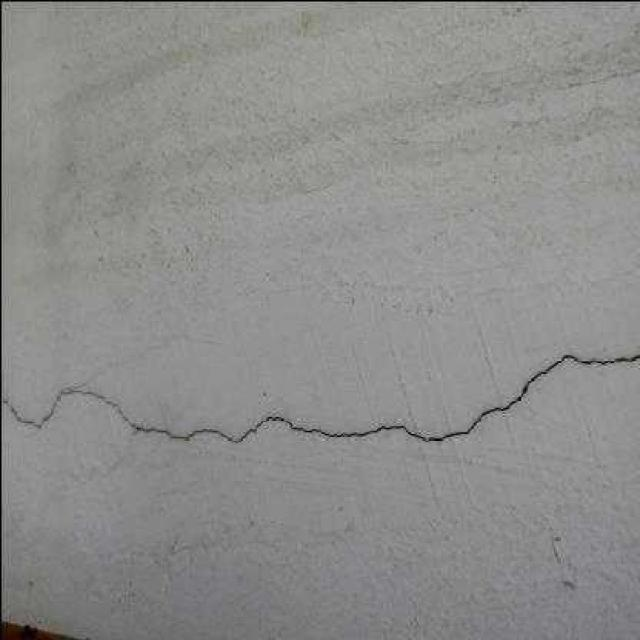D00: (0, 353, 640, 441)
